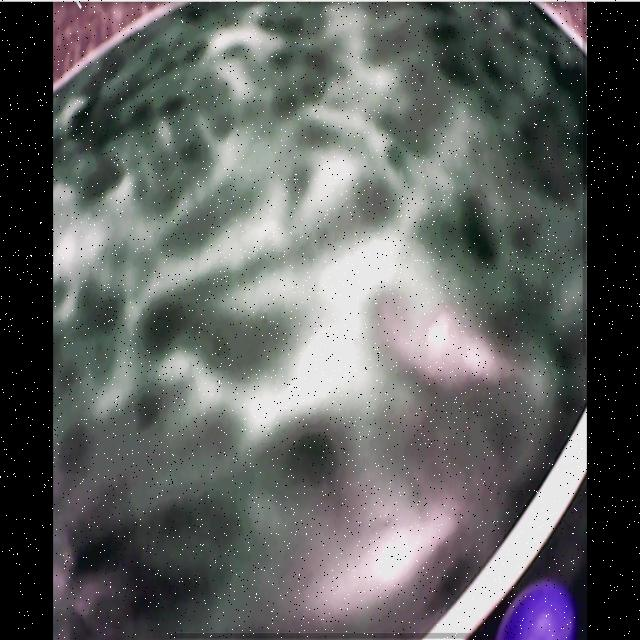ball: (499, 582, 576, 639)
